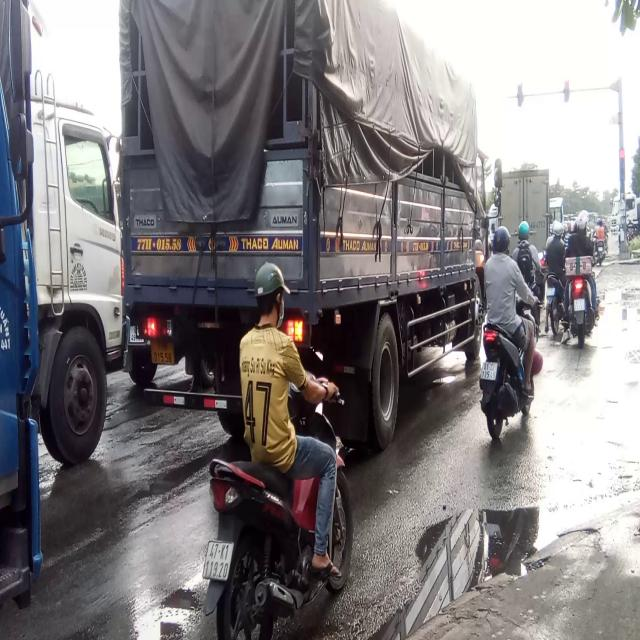bien_trang: (201, 540, 233, 582)
bien_vang: (150, 335, 173, 363)
